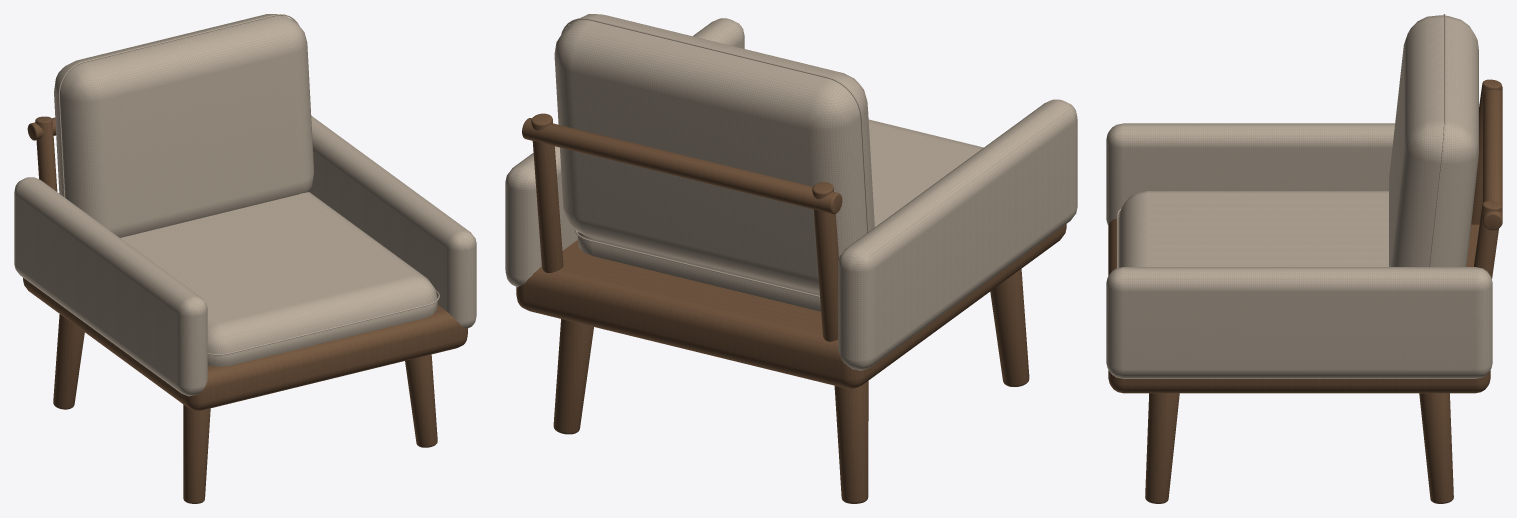
File: original-chair.glb
The picture shows the model from 3 angles, left to right: view 1: azimuth 30°, elevation 25°; view 2: azimuth 150°, elevation 25°; view 3: azimuth 270°, elevation 25°; orthographic projection. The views are drawn at different scales.
Parts seen in each view (by area): view 1: Upholstered back, Tailored seat cushion, Rounded arm, Rounded arm.001, Seat frame, Tapered support, Tapered support.002, Tapered support.001, Back frame upright, Back cushion seam; view 2: Upholstered back, Rounded arm, Seat frame, Tailored seat cushion, Back frame rail, Rounded arm.001, Tapered support.001, Tapered support.003, Tapered support, Back frame upright.001, Back frame upright, Back cushion seam; view 3: Rounded arm.001, Tailored seat cushion, Rounded arm, Upholstered back, Seat frame, Tapered support.002, Tapered support.003, Back frame rail, Back frame upright.001, Back frame upright, Back cushion seam.
Part boxes in pixels (x1,y1,x2,y2): Upholstered back: (54, 14, 313, 237); Tailored seat cushion: (120, 192, 437, 366); Rounded arm: (14, 177, 207, 396); Rounded arm.001: (309, 116, 476, 328); Seat frame: (23, 278, 467, 410); Tapered support: (183, 404, 210, 503); Tapered support.002: (405, 354, 437, 447); Tapered support.001: (53, 314, 84, 409); Back frame upright: (35, 116, 57, 191); Back cushion seam: (58, 14, 299, 197); Upholstered back: (554, 14, 874, 292); Rounded arm: (838, 99, 1077, 370); Seat frame: (516, 224, 1066, 388); Tailored seat cushion: (577, 119, 983, 311); Back frame rail: (522, 118, 842, 214); Rounded arm.001: (505, 18, 744, 287); Tapered support.001: (834, 381, 868, 503); Tapered support.003: (553, 319, 593, 434); Tapered support: (990, 269, 1029, 386); Back frame upright.001: (531, 113, 563, 272); Back frame upright: (812, 182, 838, 341); Back cushion seam: (561, 18, 868, 232); Rounded arm.001: (1106, 267, 1492, 378); Tailored seat cushion: (1119, 191, 1388, 267); Rounded arm: (1106, 123, 1394, 225); Upholstered back: (1389, 15, 1478, 266); Seat frame: (1108, 218, 1490, 393); Tapered support.002: (1145, 393, 1179, 503); Tapered support.003: (1419, 393, 1453, 503); Back frame rail: (1483, 86, 1502, 230); Back frame upright.001: (1473, 201, 1501, 278); Back frame upright: (1471, 79, 1501, 224); Back cushion seam: (1429, 14, 1445, 266).
Size of the model in its own units: 0.72 by 0.7841 by 0.76.
3 materials, 2 textured.
